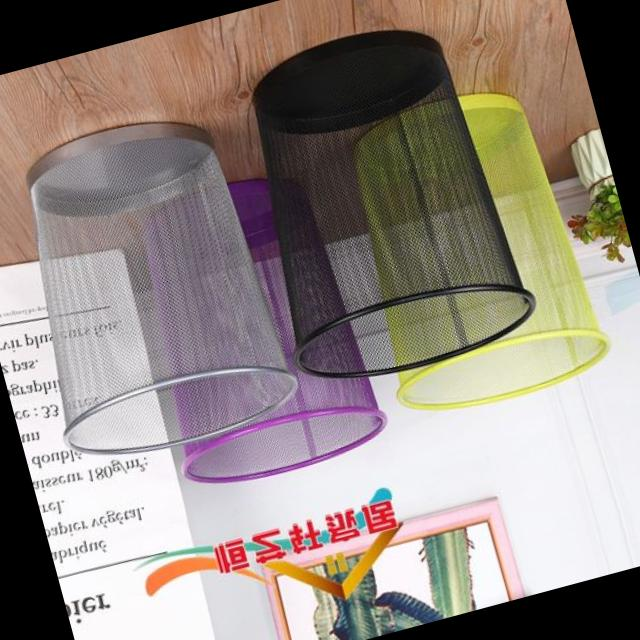dustbin: (218, 3, 550, 404), (0, 90, 308, 477), (324, 68, 624, 431), (110, 153, 398, 502)
